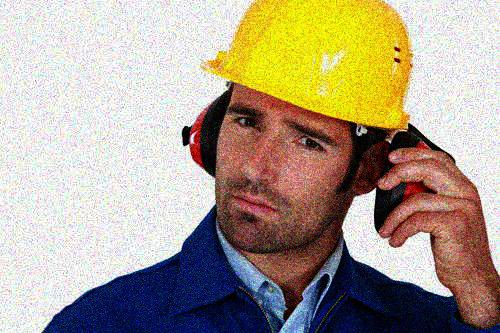helmet: (179, 1, 414, 252)
